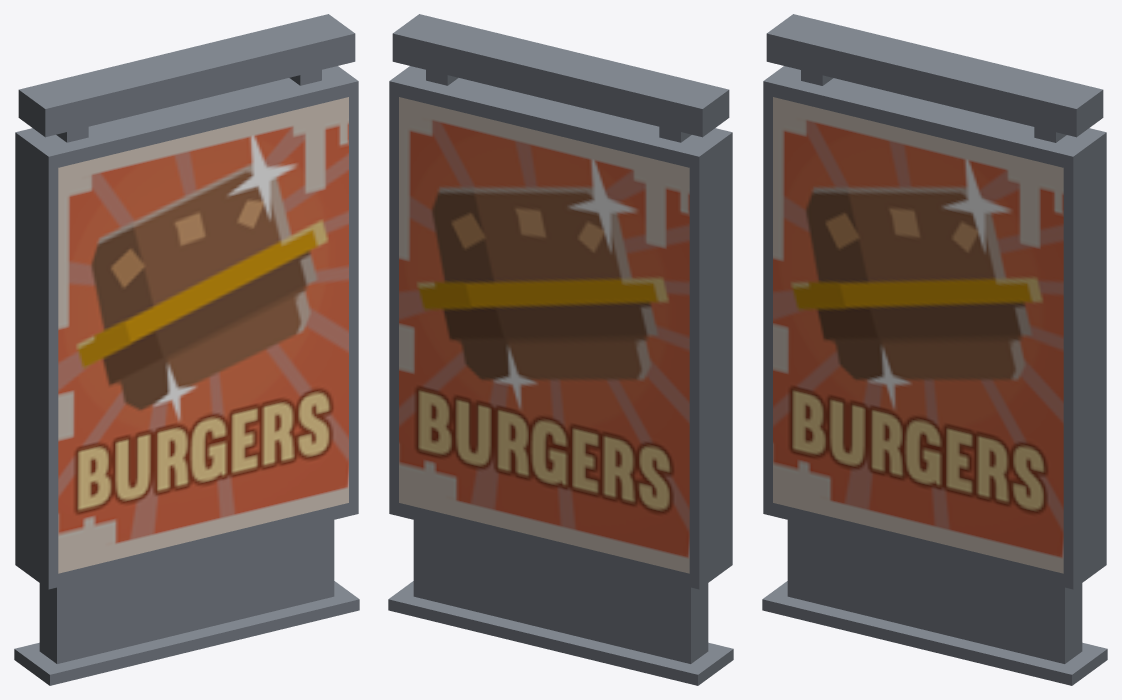
The model's file is SM_Billboard_Panel_03.fbx.
3 renders of one model, left to right at view 1: azimuth 30°, elevation 25°; view 2: azimuth 150°, elevation 25°; view 3: azimuth 330°, elevation 25°, orthographic.
Visible parts, largest first — view 1: SM_Billboard_Panel_03; view 2: SM_Billboard_Panel_03; view 3: SM_Billboard_Panel_03.
Part boxes in pixels (x1=…): SM_Billboard_Panel_03: x1=14, y1=14, x2=359, y2=685; SM_Billboard_Panel_03: x1=388, y1=14, x2=733, y2=685; SM_Billboard_Panel_03: x1=762, y1=14, x2=1107, y2=685.
Bounding box in the file's own units: 2.2 × 3.89 × 0.4375.
